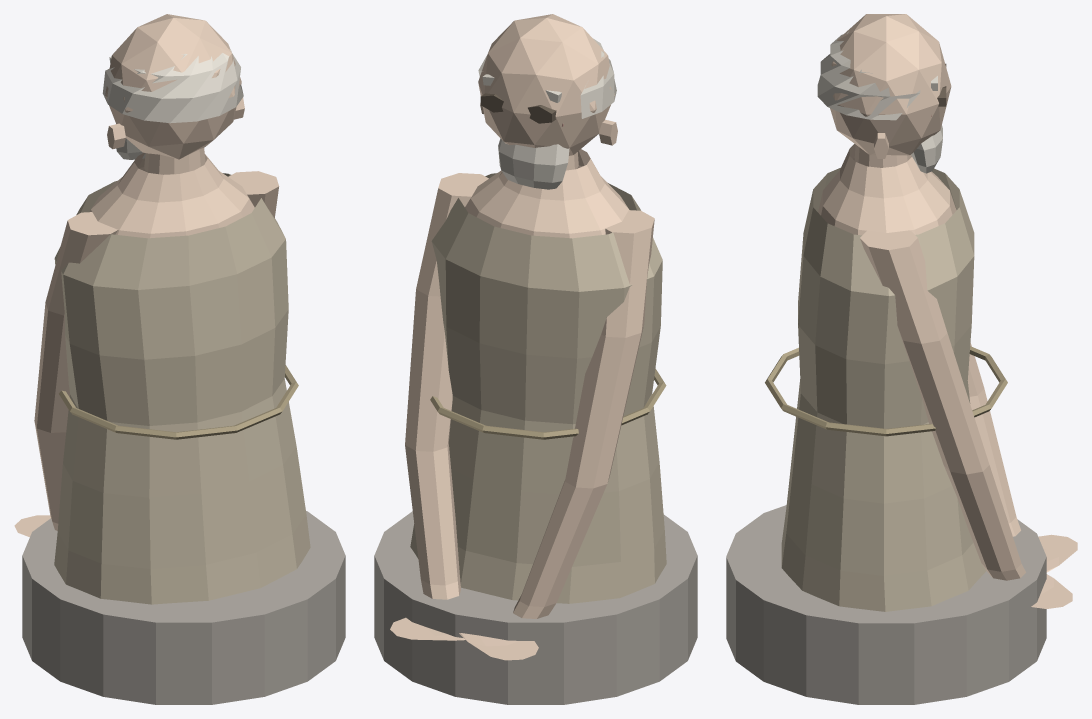
File: 19-NPCs_npc_sentado.glb
The picture shows the model from 3 angles, left to right: view 1: azimuth 30°, elevation 25°; view 2: azimuth 150°, elevation 25°; view 3: azimuth 270°, elevation 25°; orthographic projection.
Parts seen in each view (by area): view 1: SM_Sent_M_Sent_Lino, SM_Sent_M_Sent_Piedra, SM_Sent_M_Sent_Piel, SM_Sent_M_Sent_Pelo, SM_Sent_M_Sent_Cordon; view 2: SM_Sent_M_Sent_Lino, SM_Sent_M_Sent_Piel, SM_Sent_M_Sent_Piedra, SM_Sent_M_Sent_Pelo, SM_Sent_M_Sent_Cordon, SM_Sent_M_Sent_Ojos; view 3: SM_Sent_M_Sent_Lino, SM_Sent_M_Sent_Piel, SM_Sent_M_Sent_Piedra, SM_Sent_M_Sent_Pelo, SM_Sent_M_Sent_Cordon.
Boxes of the visible parts, <box> form: SM_Sent_M_Sent_Lino: <box>54,173,310,604</box>; SM_Sent_M_Sent_Piedra: <box>22,511,345,704</box>; SM_Sent_M_Sent_Piel: <box>14,14,279,537</box>; SM_Sent_M_Sent_Pelo: <box>102,47,243,159</box>; SM_Sent_M_Sent_Cordon: <box>59,365,298,439</box>; SM_Sent_M_Sent_Lino: <box>410,173,666,603</box>; SM_Sent_M_Sent_Piel: <box>390,14,654,660</box>; SM_Sent_M_Sent_Piedra: <box>374,511,697,704</box>; SM_Sent_M_Sent_Pelo: <box>478,38,616,189</box>; SM_Sent_M_Sent_Cordon: <box>430,368,666,439</box>; SM_Sent_M_Sent_Ojos: <box>480,93,556,123</box>; SM_Sent_M_Sent_Lino: <box>781,167,986,611</box>; SM_Sent_M_Sent_Piel: <box>818,14,1077,608</box>; SM_Sent_M_Sent_Piedra: <box>726,505,1046,704</box>; SM_Sent_M_Sent_Pelo: <box>817,31,942,173</box>; SM_Sent_M_Sent_Cordon: <box>765,346,1007,436</box>.
Size of the model in its own units: 0.6303 by 1.36 by 0.7023.
